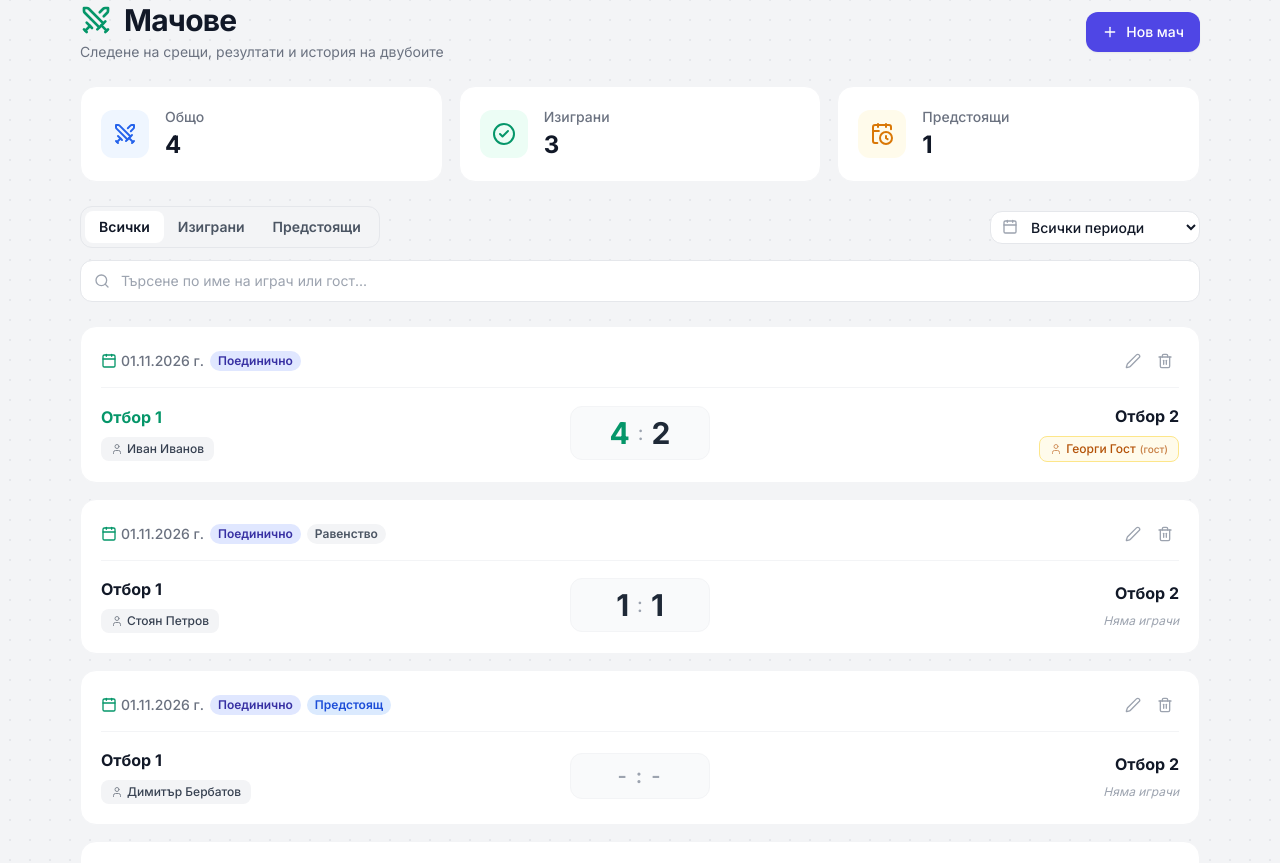
MatchesPage Integration Tests › filters matches by period dropdown (Тази седмица, Този месец)
# Select "Тази седмица"
Select "Тази седмица" in the dropdown named "Филтър по период" at [1095, 227], box [990,210,1200,244]
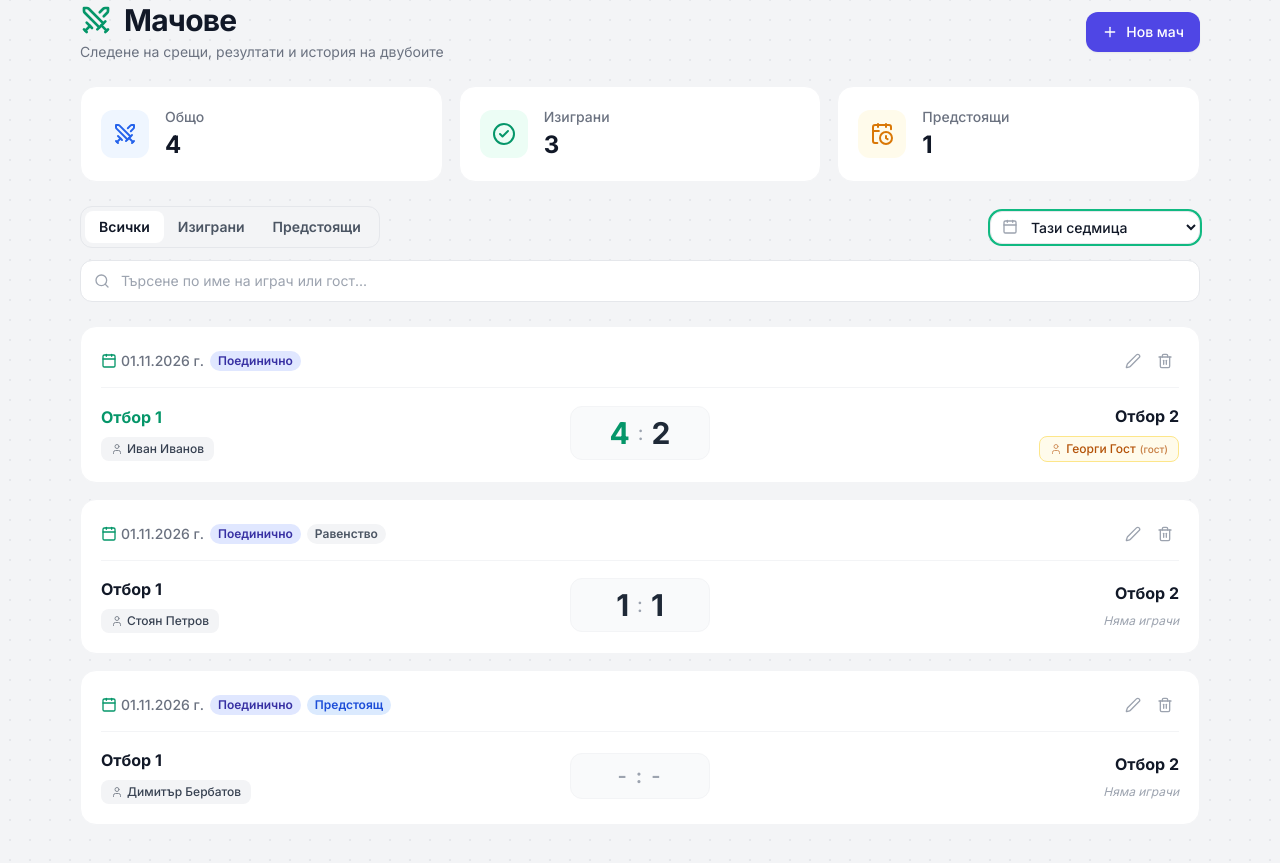
Check: the text "Иван Иванов" is shown, box [127,441,204,457]
Check: the text "Димитър Бербатов" is shown, box [127,784,241,800]
# Select "Този месец"
Select "Този месец" in the dropdown named "Филтър по период" at [1095, 227], box [990,210,1200,244]
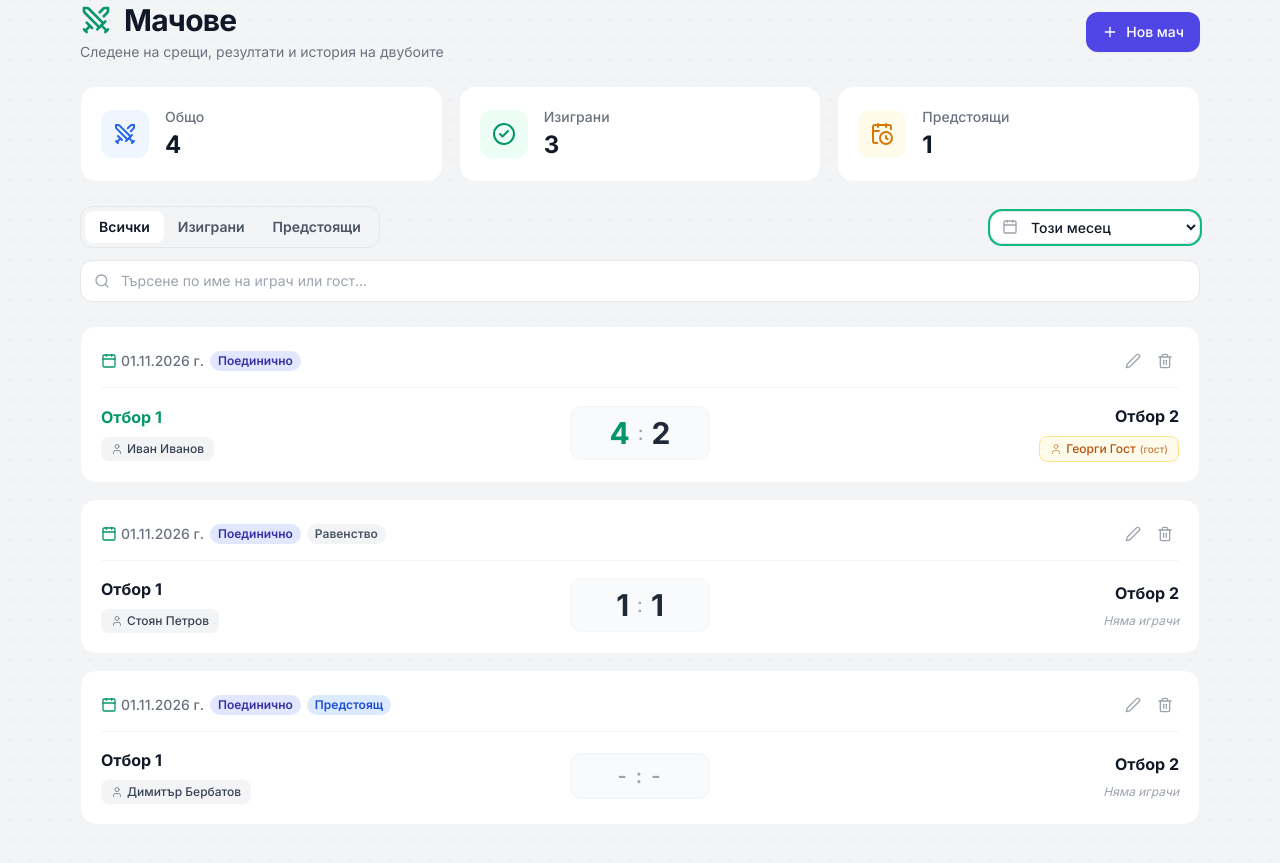
Check: the text "Иван Иванов" is shown, box [127,441,204,457]
Check: the text "Красимир Балъков" is not shown
# Select "Всички периоди"
Select "Всички периоди" in the dropdown named "Филтър по период" at [1095, 227], box [990,210,1200,244]
(page scrolled)
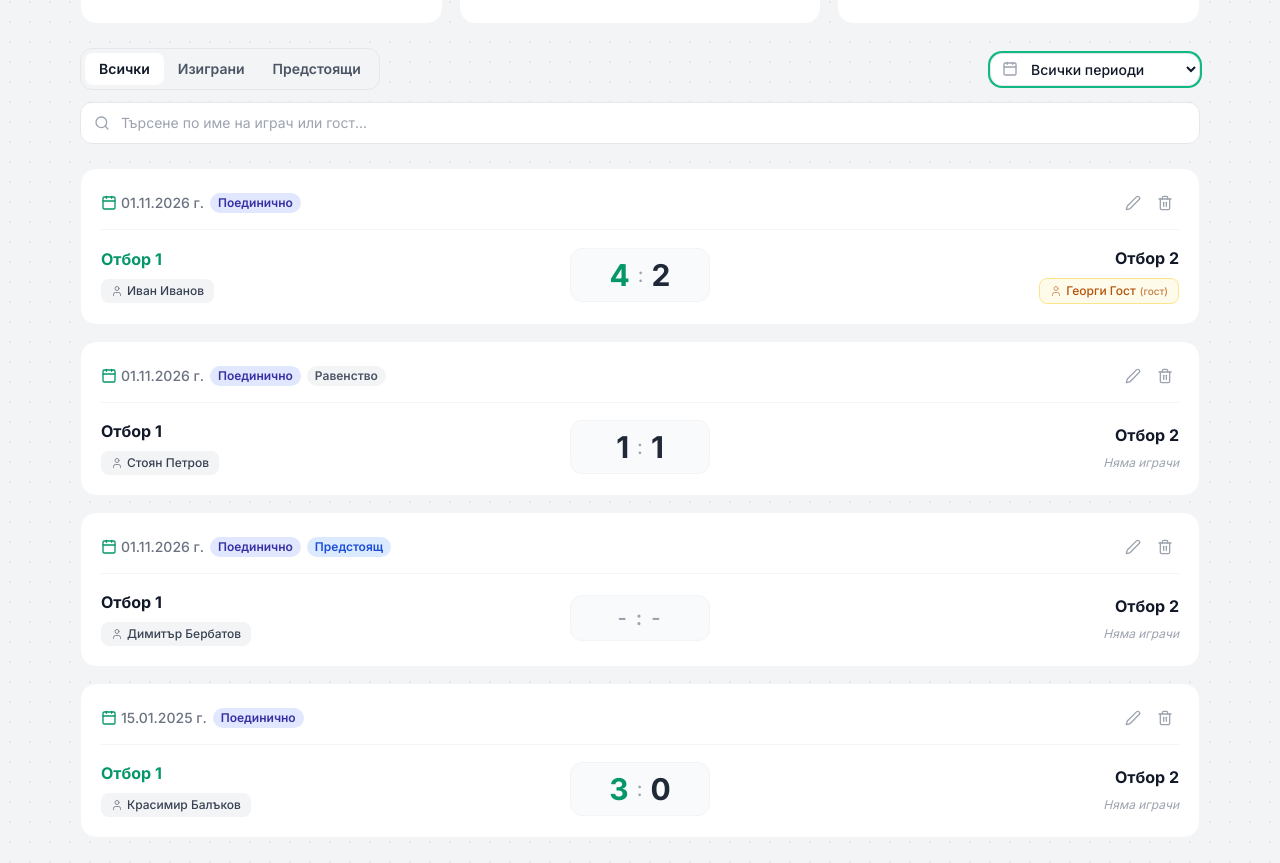
Check: the text "Красимир Балъков" is shown, box [127,797,241,813]
